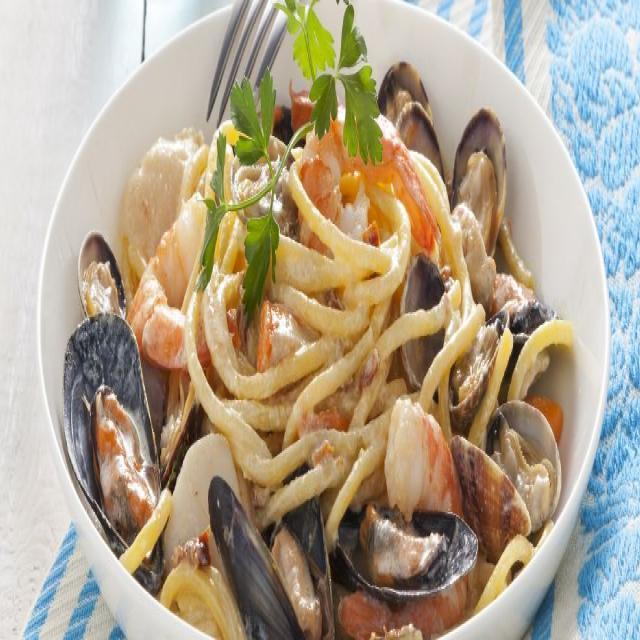Pasta with carbonara sauce: (78, 13, 574, 640)
